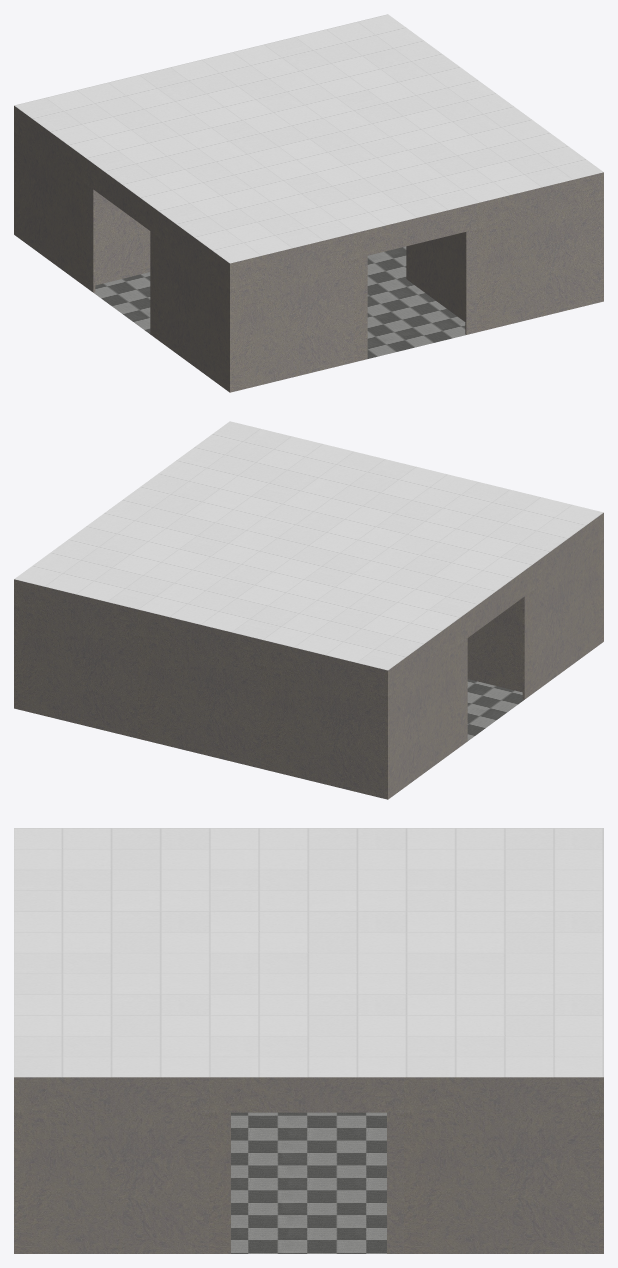
Rendered from 3exitnarrow.glb.
3 renders of one model, top to bottom at view 1: azimuth 30°, elevation 25°; view 2: azimuth 150°, elevation 25°; view 3: azimuth 270°, elevation 25°, orthographic. The views are drawn at different scales.
Visible parts, largest first — view 1: 3exitnarrow; view 2: 3exitnarrow; view 3: 3exitnarrow.
Part boxes in pixels (box(x1,y1,x2,y2)): 3exitnarrow: box(14, 14, 603, 392); 3exitnarrow: box(14, 421, 603, 799); 3exitnarrow: box(14, 828, 603, 1253).
Size of what is drawn, in the model's own units: 15.15 by 5 by 15.15.
3 materials, 3 textured.
